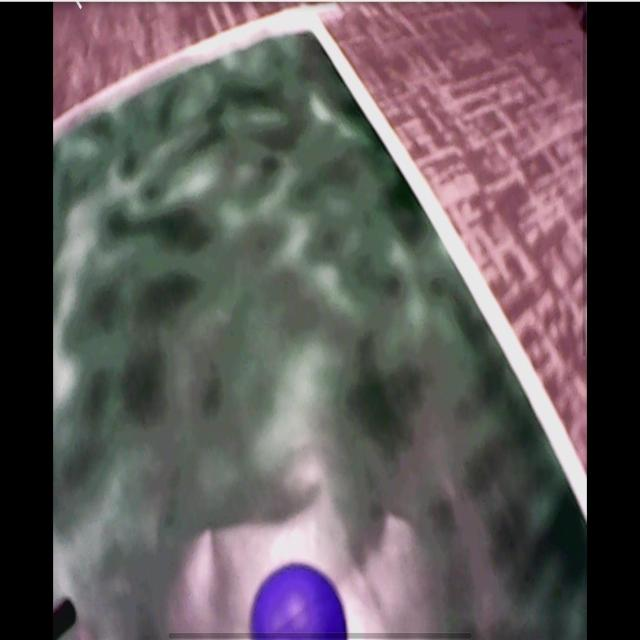ball: (250, 562, 350, 640)
